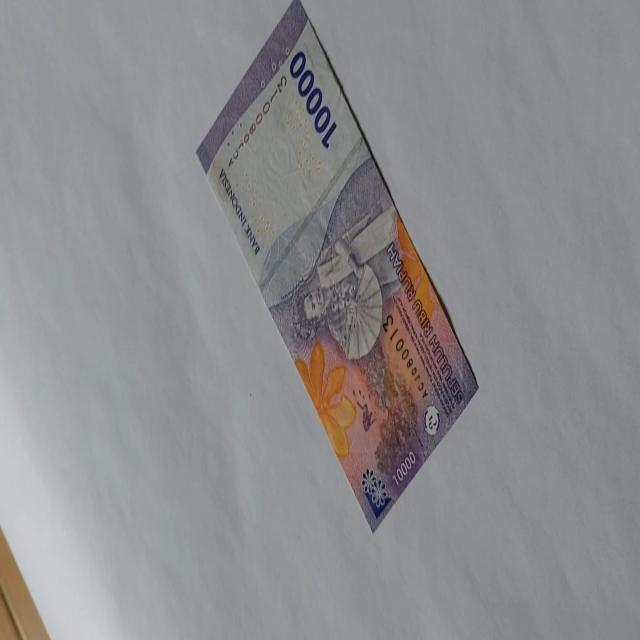sepuluh ribu rupiah: (195, 1, 480, 534), (288, 48, 338, 150), (216, 164, 262, 257)
